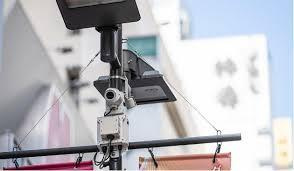maru: (103, 85, 122, 105)
